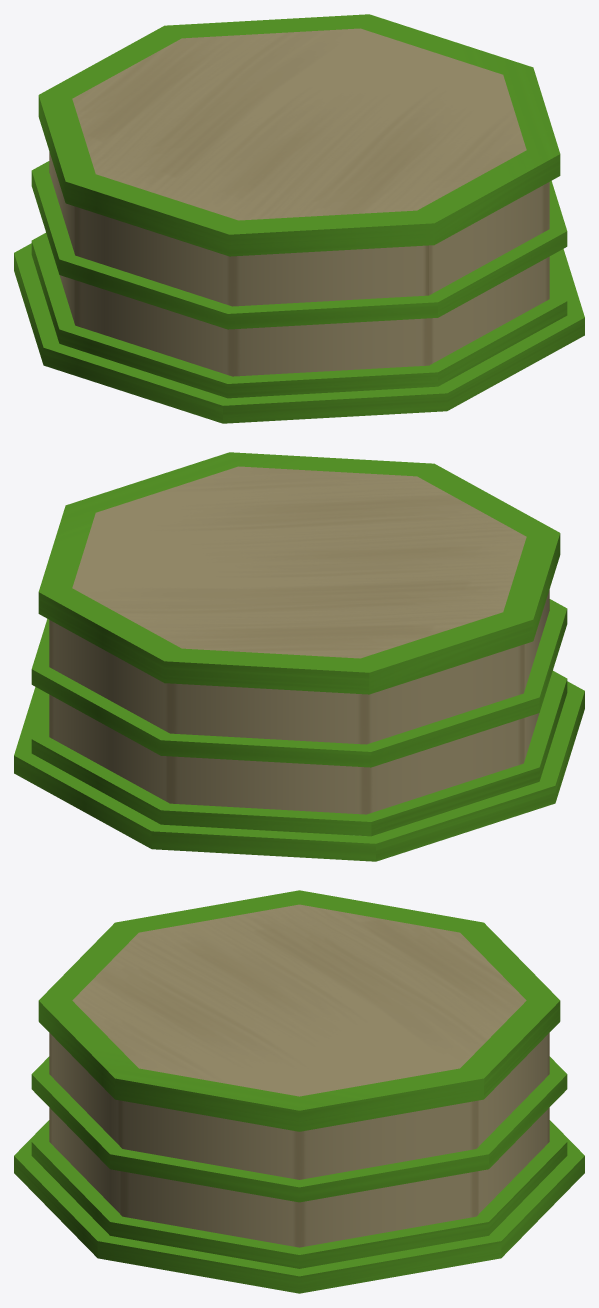
The model's file is darkness_tower_platform2.FBX.
3 views of the same model, one above another, from view 1: azimuth 30°, elevation 25°; view 2: azimuth 150°, elevation 25°; view 3: azimuth 270°, elevation 25° (orthographic). The views are drawn at different scales.
Visible parts, largest first — view 1: platform_bow2; view 2: platform_bow2; view 3: platform_bow2.
Part boxes in pixels (<box>): platform_bow2: <box>14,14,584,423</box>; platform_bow2: <box>14,452,584,861</box>; platform_bow2: <box>14,890,584,1293</box>.
Bounding box in the file's own units: 9 × 3 × 9.
